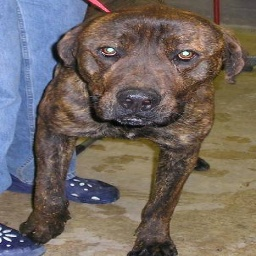dog: (23, 7, 243, 256)
